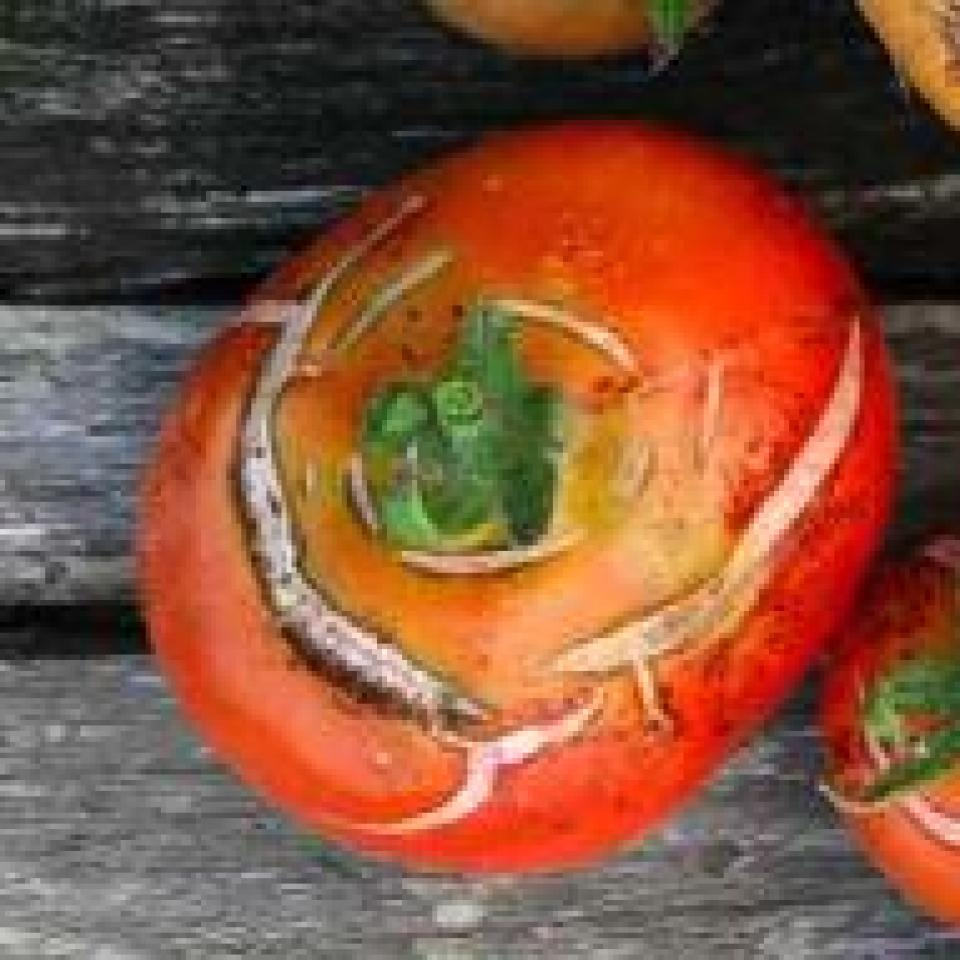Cracking: (163, 176, 493, 748), (522, 284, 869, 677), (340, 666, 604, 844), (454, 256, 668, 384), (843, 651, 955, 891)
